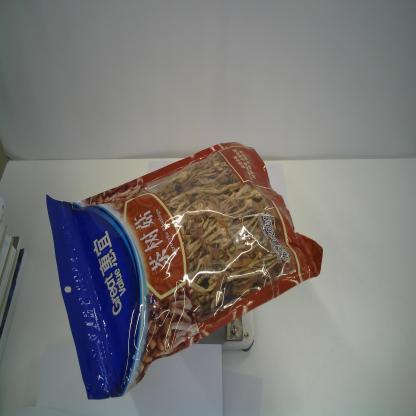Dried Food: (44, 139, 326, 401)
